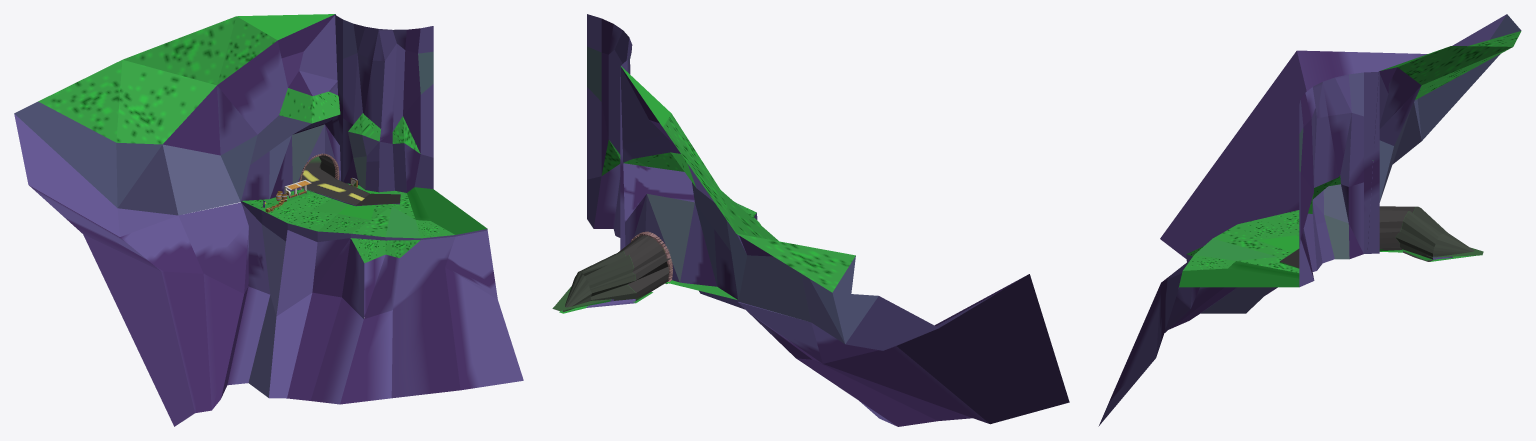
File: Mapa Verde 1.fbx
3 views of the same model, side by side, from view 1: azimuth 30°, elevation 25°; view 2: azimuth 150°, elevation 25°; view 3: azimuth 270°, elevation 25° (orthographic). The views are drawn at different scales.
Visible parts, largest first — view 1: Mapa1; view 2: Mapa1; view 3: Mapa1.
Boxes of the visible parts, x1=… form: Mapa1: x1=14, y1=14, x2=523, y2=426; Mapa1: x1=552, y1=14, x2=1069, y2=426; Mapa1: x1=1098, y1=14, x2=1521, y2=426.
Bounding box in the file's own units: 44975 × 42166 × 35397.
4 materials, 4 textured.
